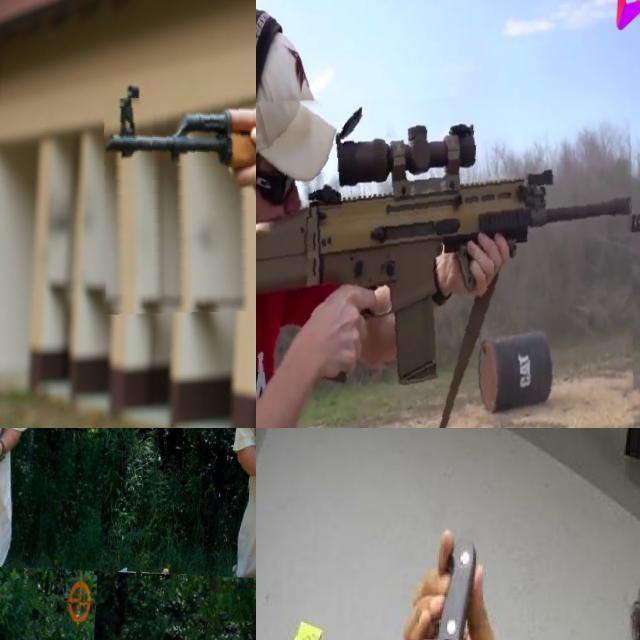-: (0, 433, 28, 483)
gun-knife-thesis - v11 Yolov5 augmented: (256, 79, 640, 428), (99, 79, 256, 319)
